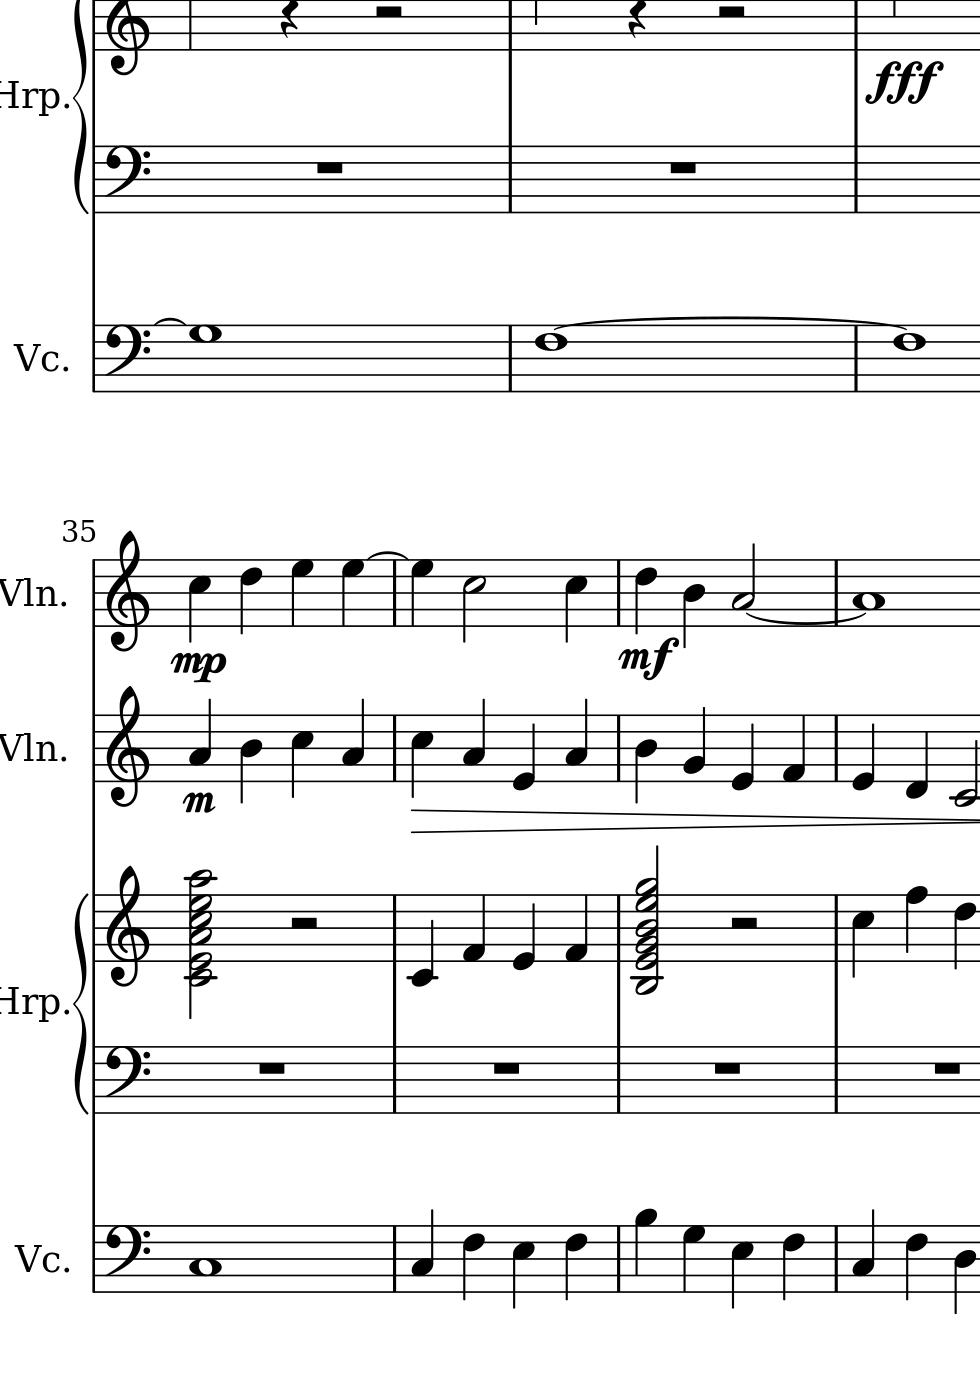1_3: (851, 557, 883, 629), (188, 1223, 221, 1294)
1_6: (890, 323, 926, 396), (532, 323, 568, 394)
1_7: (187, 324, 222, 394)
2_-2: (949, 712, 979, 808)
2_3: (729, 541, 757, 626)
2_5: (460, 558, 487, 645)
3: (60, 517, 78, 544)
4_-1: (902, 712, 930, 801)
4_-2: (407, 893, 435, 990)
4_0: (848, 712, 877, 793), (728, 712, 755, 794), (510, 712, 537, 793), (511, 892, 536, 972)
4_1: (778, 712, 807, 783), (460, 892, 487, 964), (563, 892, 589, 964)
4_2: (681, 704, 707, 783)
4_3: (460, 696, 487, 783), (187, 697, 213, 783), (563, 696, 589, 783), (410, 1208, 436, 1295), (340, 696, 366, 782), (850, 1209, 875, 1293)
4_4: (237, 712, 263, 804), (681, 557, 707, 648), (632, 713, 658, 806), (952, 1224, 977, 1316)
4_5: (288, 712, 314, 800), (729, 1224, 754, 1312), (850, 893, 875, 980), (186, 558, 211, 643), (562, 558, 587, 645), (510, 1224, 535, 1311), (409, 712, 433, 800)
4_6: (562, 1223, 589, 1302), (238, 558, 264, 636), (460, 1223, 486, 1303), (951, 893, 977, 972), (780, 1224, 805, 1302), (903, 1223, 928, 1301), (632, 558, 657, 636)
4_7: (288, 558, 315, 629), (680, 1223, 706, 1294), (407, 557, 433, 629), (339, 558, 364, 628)
4_8: (902, 884, 929, 964)
4_9: (632, 1207, 657, 1294)
5: (78, 517, 97, 545)
Brace: (73, 889, 90, 1115)
Diminuendo_hairpin: (410, 809, 980, 836)
Fclef: (103, 1043, 151, 1116), (103, 323, 151, 394), (103, 1224, 151, 1295), (103, 144, 151, 201)
Gclef: (104, 684, 151, 810), (104, 530, 151, 654), (104, 864, 151, 988)
Hrp: (1, 78, 59, 120)
Rests1: (311, 156, 346, 176), (930, 1057, 965, 1076), (666, 157, 700, 176), (255, 1059, 288, 1076), (489, 1059, 523, 1076), (710, 1059, 743, 1076)
Rests2: (285, 914, 322, 934), (727, 914, 762, 935), (712, 3, 749, 22), (370, 3, 406, 22)
Rests4: (277, 1, 301, 42), (625, 1, 648, 41)
Single_barline: (846, 146, 864, 213), (387, 560, 405, 626), (386, 895, 403, 962), (828, 895, 845, 962), (827, 1047, 844, 1113), (502, 326, 519, 391), (847, 327, 864, 392), (610, 559, 627, 625), (827, 560, 844, 626), (386, 715, 403, 780), (386, 1226, 403, 1291), (610, 1226, 627, 1291), (86, 324, 102, 392), (828, 715, 844, 782), (386, 1047, 402, 1113), (610, 1047, 626, 1113), (502, 147, 518, 213), (610, 716, 626, 780), (828, 1226, 844, 1291), (87, 715, 102, 783), (611, 895, 626, 962), (87, 559, 101, 628), (88, 146, 102, 213), (88, 1047, 102, 1113), (87, 1226, 101, 1293), (88, 894, 101, 963)
Slur: (556, 316, 914, 333), (740, 613, 869, 626), (368, 551, 407, 562), (151, 317, 187, 327)
Vln: (1, 573, 58, 613), (1, 729, 58, 768)
fff: (864, 59, 947, 108)
mf: (616, 638, 680, 685)
mp: (168, 648, 228, 684), (181, 788, 217, 817)
